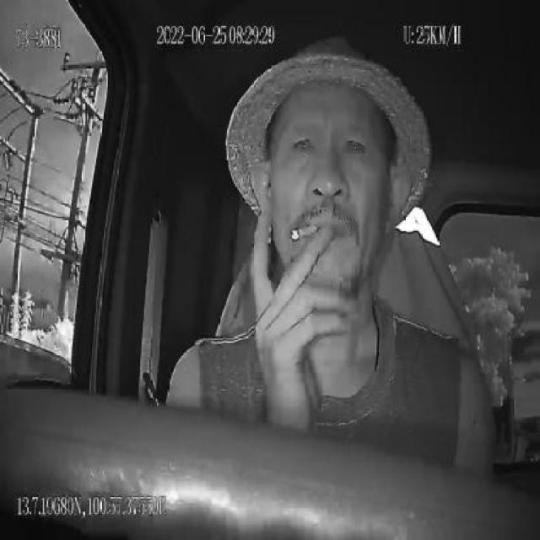smoking: (290, 221, 318, 245)
